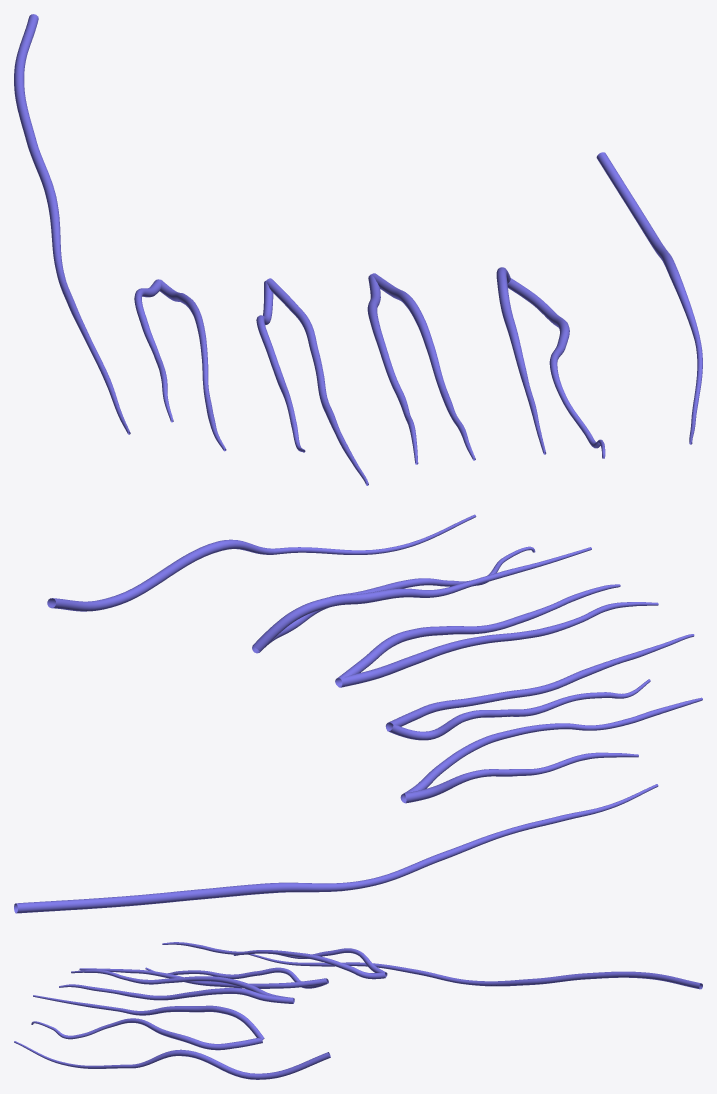
The model's file is Plantar_digital_veins.r_BezierCurve.221.glb.
3 renders of one model, top to bottom at view 1: azimuth 30°, elevation 25°; view 2: azimuth 150°, elevation 25°; view 3: azimuth 270°, elevation 25°, orthographic. The views are drawn at different scales.
Visible parts, largest first — view 1: Plantar_digital_veins.r_BezierCurve.221; view 2: Plantar_digital_veins.r_BezierCurve.221; view 3: Plantar_digital_veins.r_BezierCurve.221.
Boxes of the visible parts, x1=… form: Plantar_digital_veins.r_BezierCurve.221: x1=14, y1=14, x2=702, y2=485; Plantar_digital_veins.r_BezierCurve.221: x1=14, y1=514, x2=702, y2=913; Plantar_digital_veins.r_BezierCurve.221: x1=14, y1=942, x2=702, y2=1079.
Bounding box in the file's own units: 0.083 × 0.016 × 0.1479.
